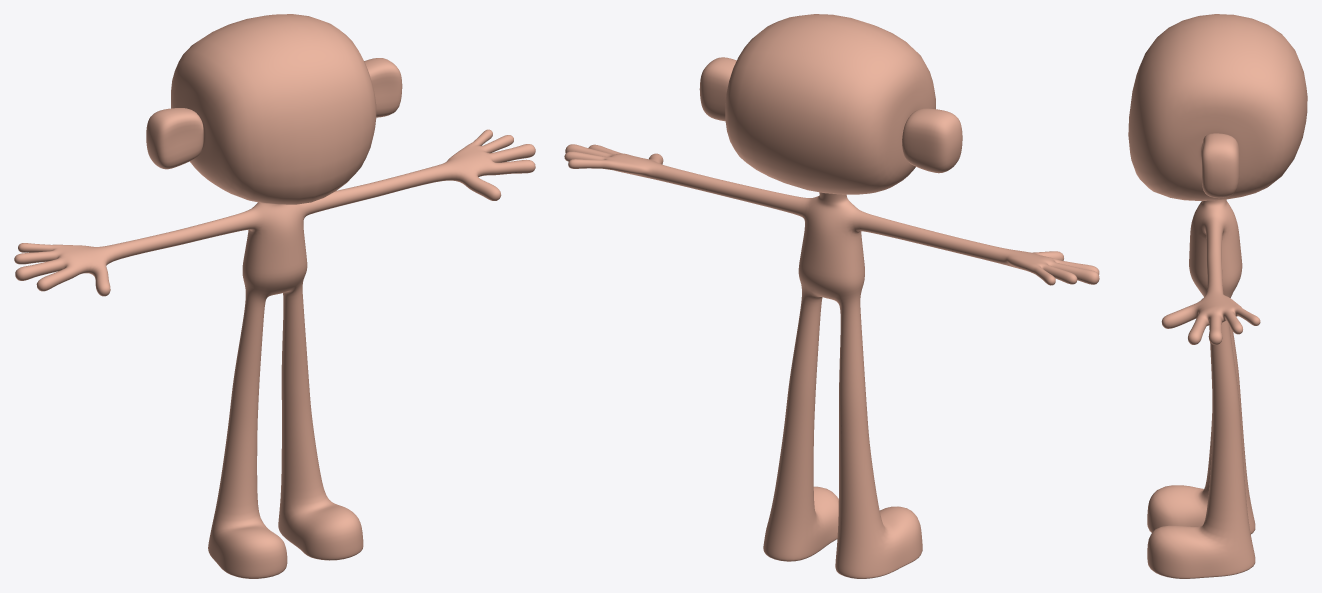
The model's file is Base Long Body 01.fbx.
3 views of the same model, side by side, from view 1: azimuth 30°, elevation 25°; view 2: azimuth 150°, elevation 25°; view 3: azimuth 270°, elevation 25° (orthographic). The views are drawn at different scales.
Parts seen in each view (by area): view 1: Body; view 2: Body; view 3: Body.
Boxes of the visible parts, x1,y1,x2,y2 form: Body: (14, 14, 535, 578); Body: (564, 14, 1099, 578); Body: (1128, 14, 1307, 578).
Bounding box in the file's own units: 2408 × 2300 × 720.
